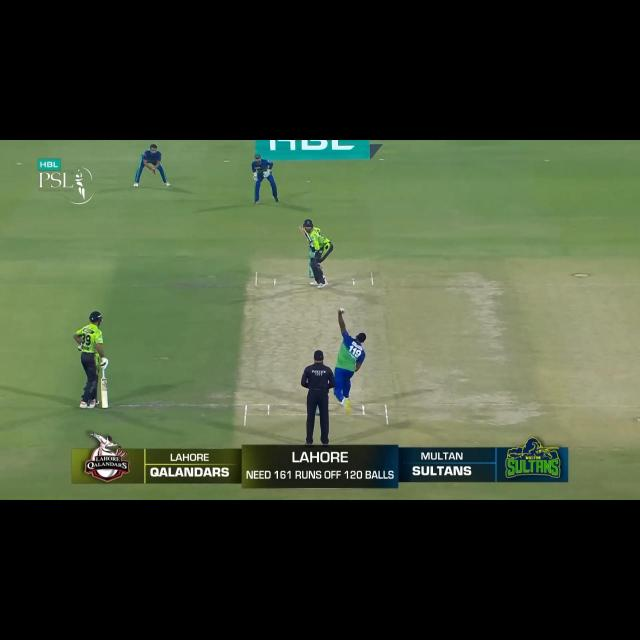bat: (100, 378, 110, 410), (299, 226, 311, 243)
toe: (101, 402, 109, 409), (298, 225, 305, 230)
